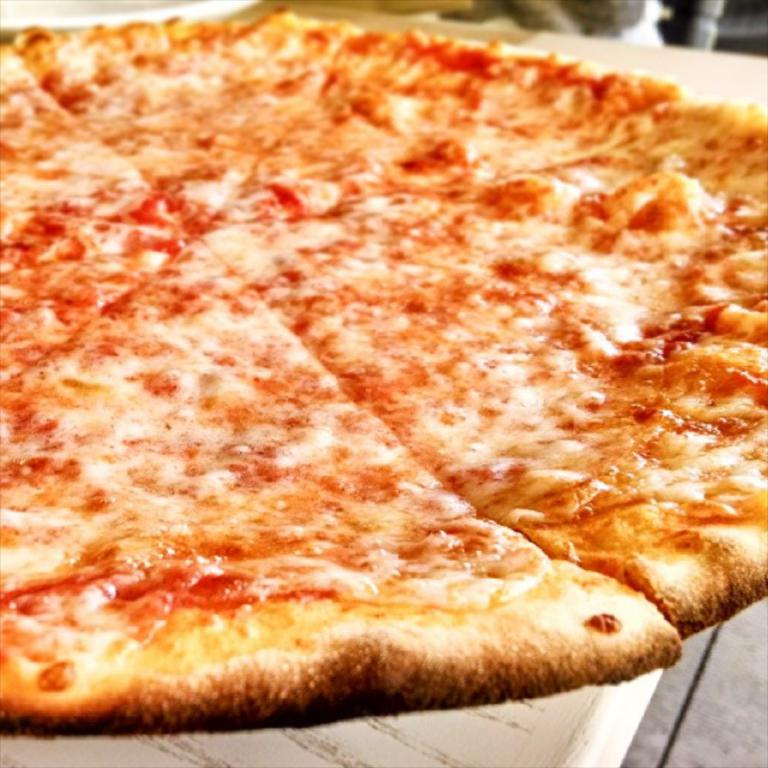Pizza: (0, 8, 766, 714)
